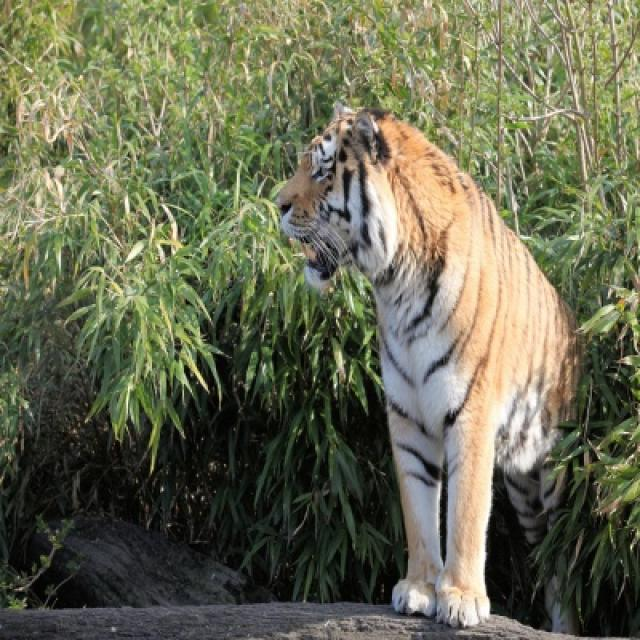Tiger: (272, 101, 593, 625)
